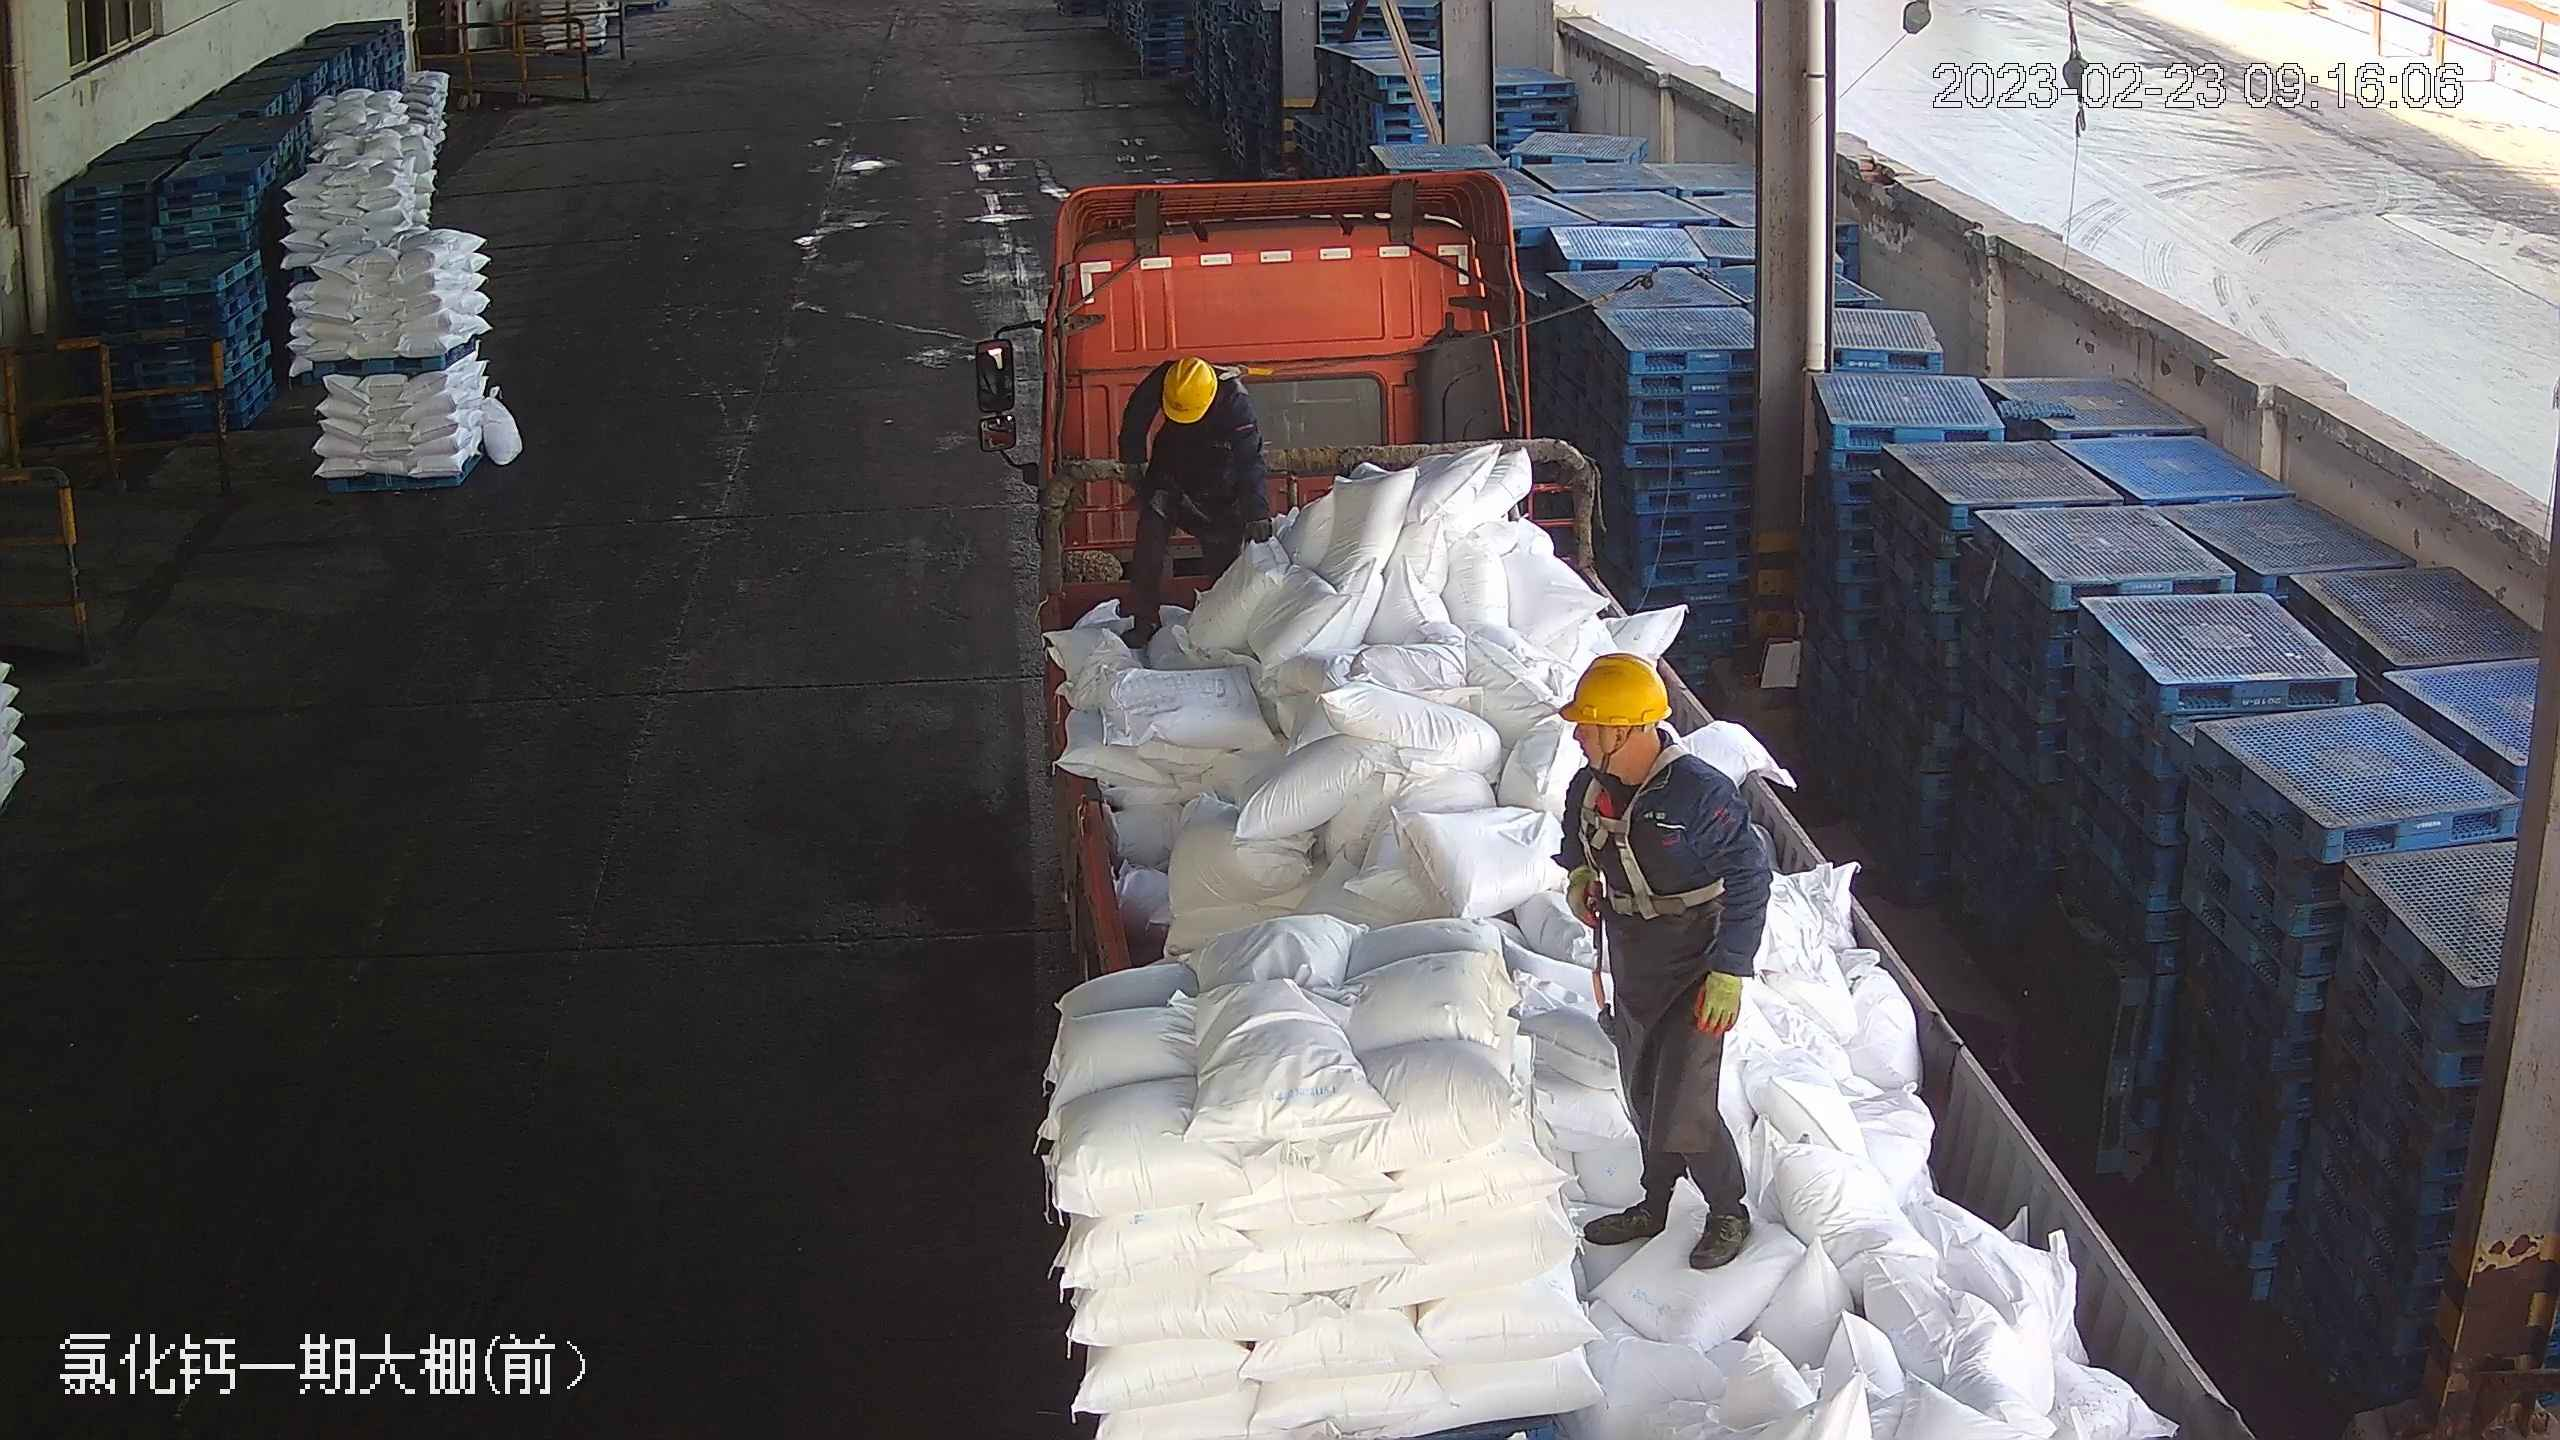belt: (1572, 755, 1703, 910), (1177, 356, 1276, 430)
head: (1553, 649, 1732, 851), (1134, 353, 1265, 454)
helmet: (1558, 649, 1671, 727), (1162, 354, 1219, 423)
people: (1551, 654, 1772, 1273), (1112, 352, 1276, 652)
truck: (975, 147, 2266, 1438)
